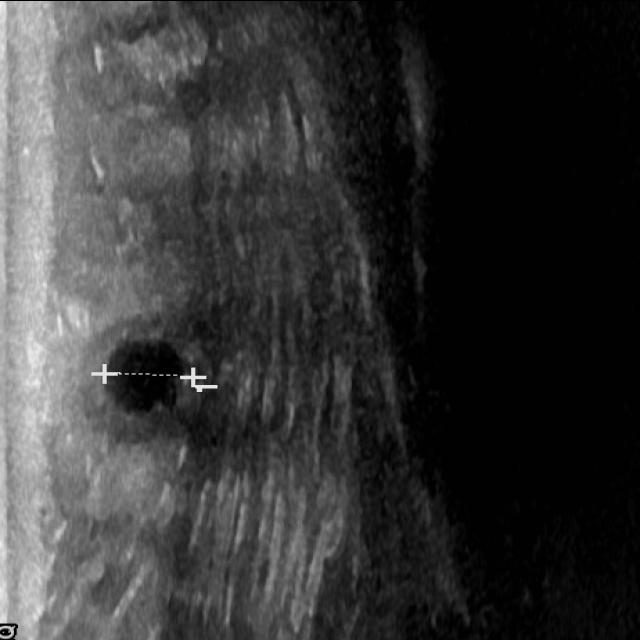Benign: (89, 328, 210, 416)
